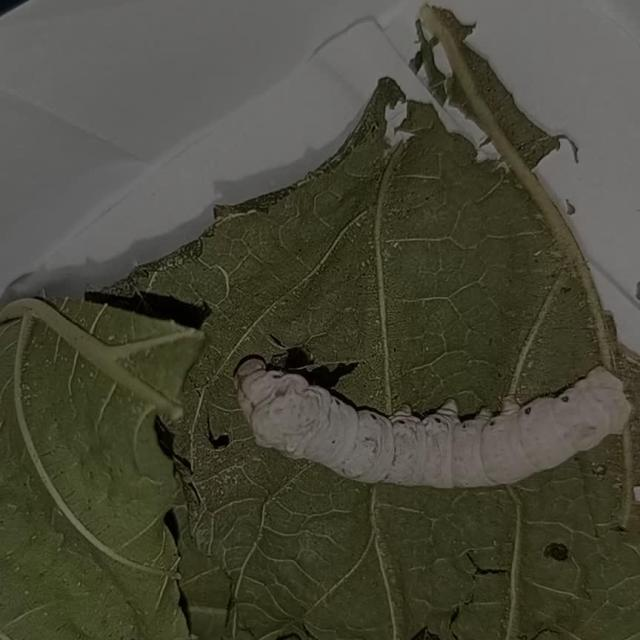Healthy: (224, 336, 640, 501)
